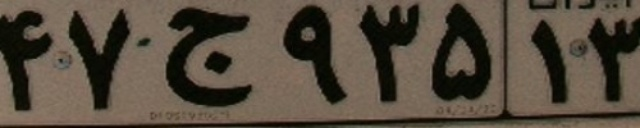1: (528, 20, 569, 104)
3: (358, 3, 420, 103), (585, 15, 636, 100)
4: (0, 7, 56, 111)
5: (429, 2, 492, 101)
7: (67, 7, 133, 111)
9: (279, 4, 345, 105)
jim: (163, 6, 253, 107)
